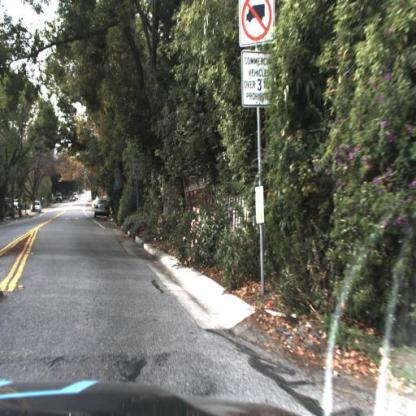car: (95, 194, 117, 223), (94, 195, 113, 222)
